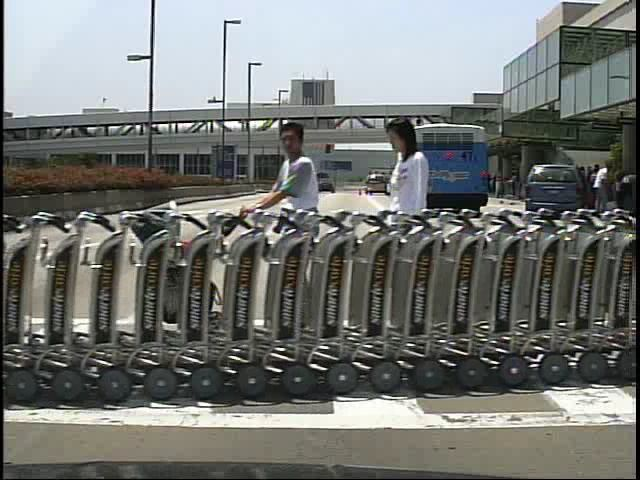person: (248, 120, 340, 356), (383, 116, 449, 341), (594, 163, 614, 213), (586, 163, 603, 214)
